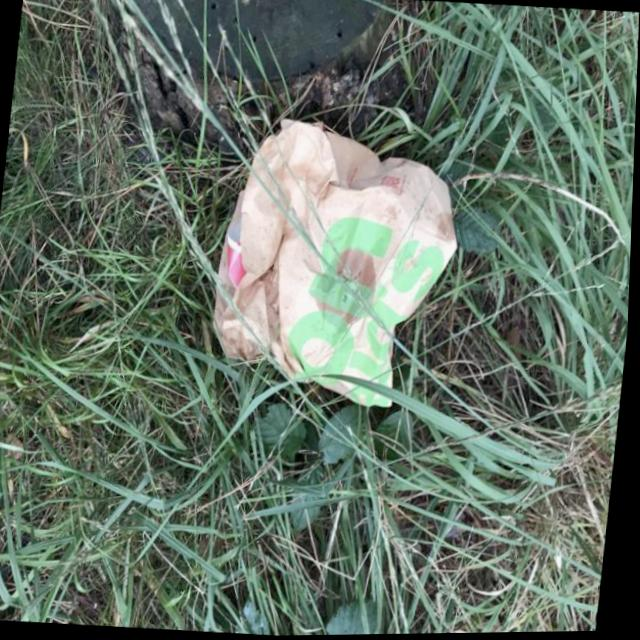Paper: (203, 108, 472, 415)
